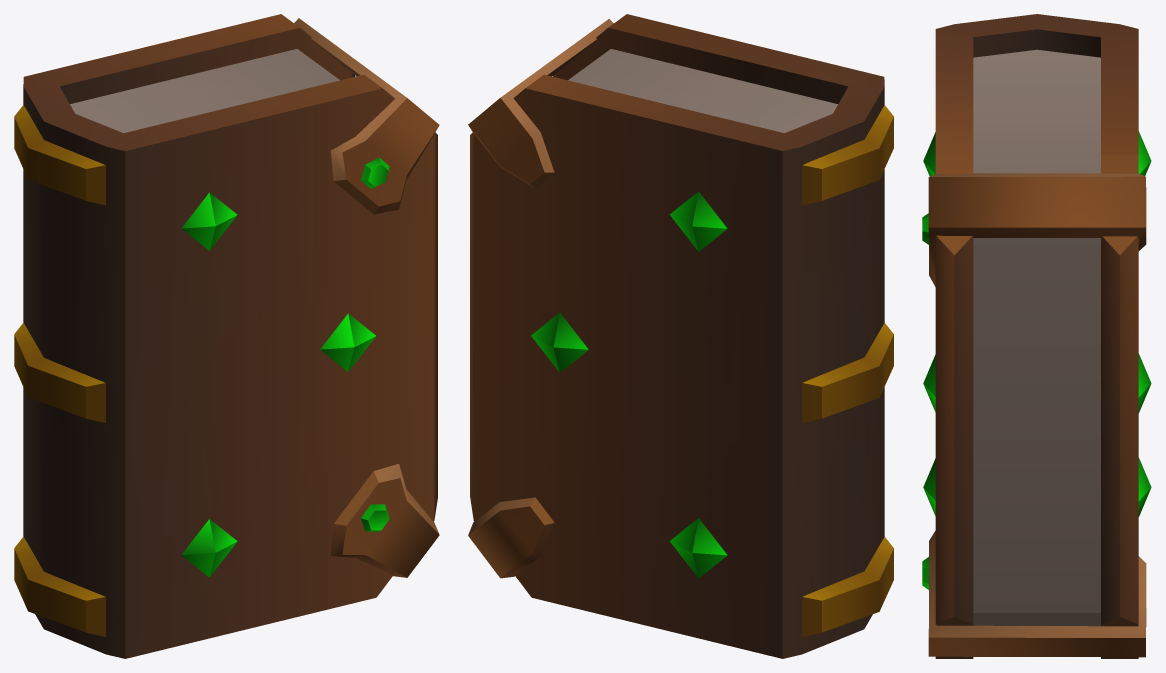
Rendered from SpellBook1h_11.fbx.
3 renders of one model, left to right at view 1: azimuth 30°, elevation 25°; view 2: azimuth 150°, elevation 25°; view 3: azimuth 270°, elevation 25°, orthographic.
Visible parts, largest first — view 1: SpellBook1h_11; view 2: SpellBook1h_11; view 3: SpellBook1h_11.
Boxes of the visible parts, x1,y1,x2,y2 form: SpellBook1h_11: (14,14,439,658); SpellBook1h_11: (468,14,893,658); SpellBook1h_11: (922,14,1151,658).
Size of the model in its own units: 32.38 by 42.65 by 17.45.
